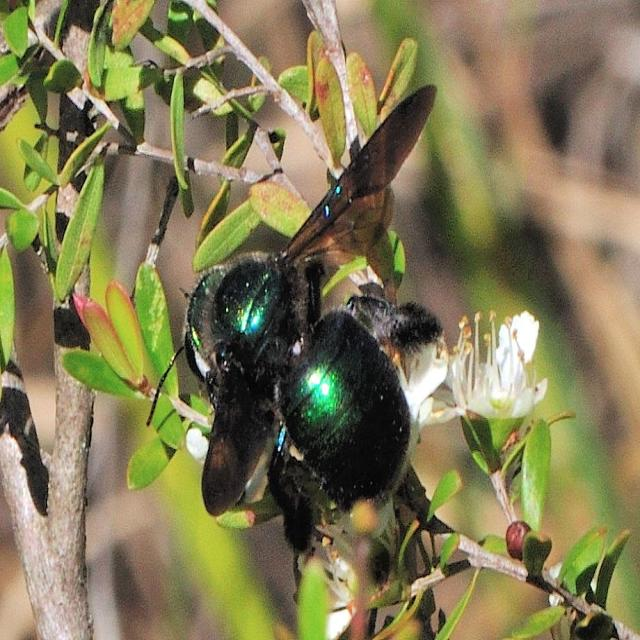Xylocopa: (140, 80, 463, 601)
